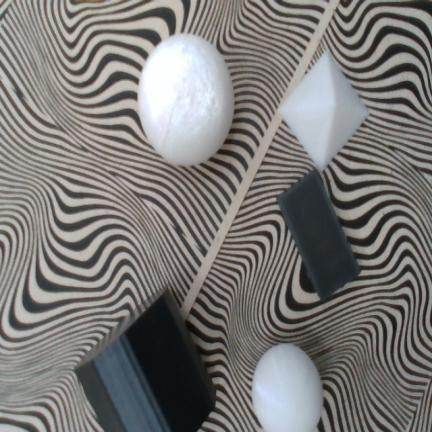Esfera: (138, 34, 234, 165), (252, 343, 323, 431)
Paralelepipedo: (277, 170, 361, 300)
Piramide: (278, 50, 370, 173)
Prisma_hexagonal: (75, 285, 216, 431)
